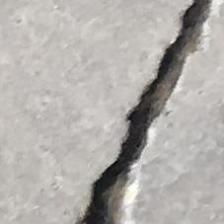Crack: (62, 5, 224, 224)
